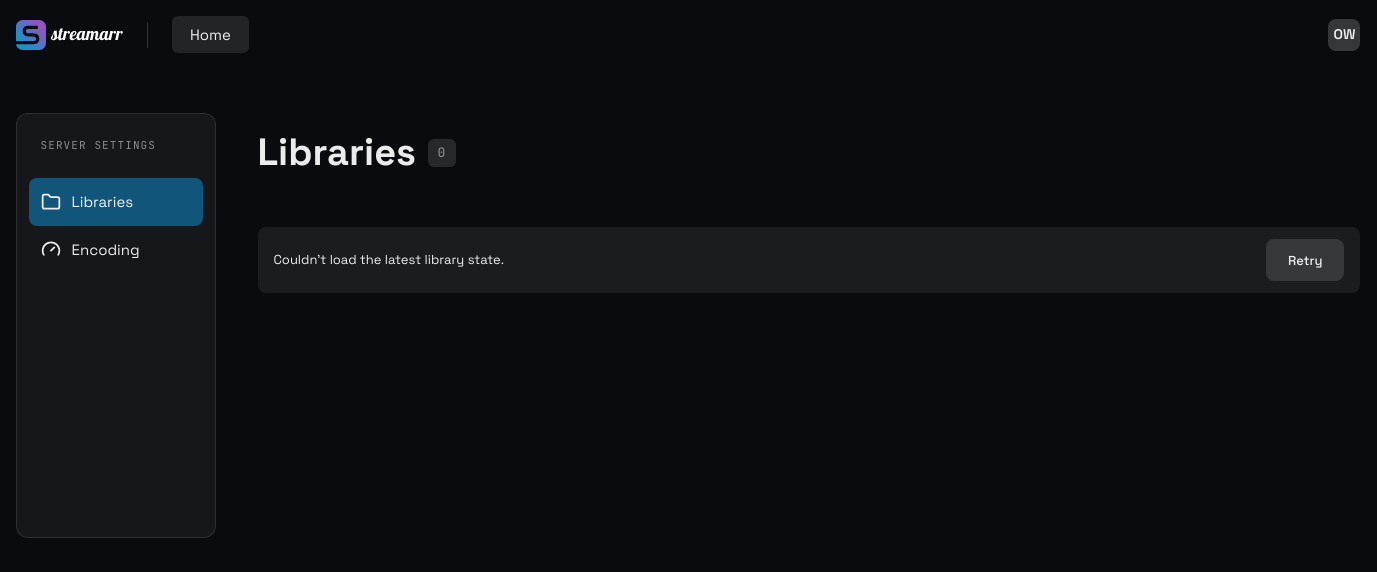
Test case: library administration › shouldDistinguishInventoryFailureFromAnEmptyServerAndRetry
expect the message "Couldn't load the latest library state." is shown: met, box x1=274 y1=251 x2=504 y2=268
expect the link "Add library" is not shown: met
Click the button "Retry".
click(1305, 260)  # box x1=1266 y1=239 x2=1344 y2=281
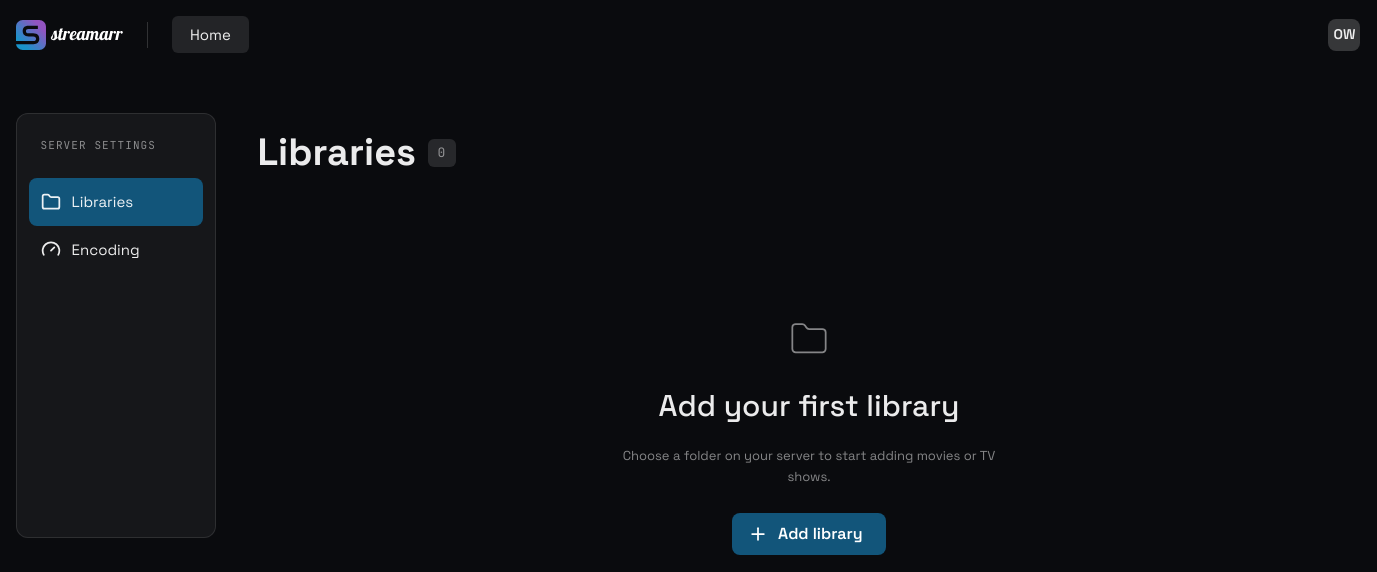
expect the link "Add library" is shown: met, box x1=732 y1=513 x2=886 y2=555
